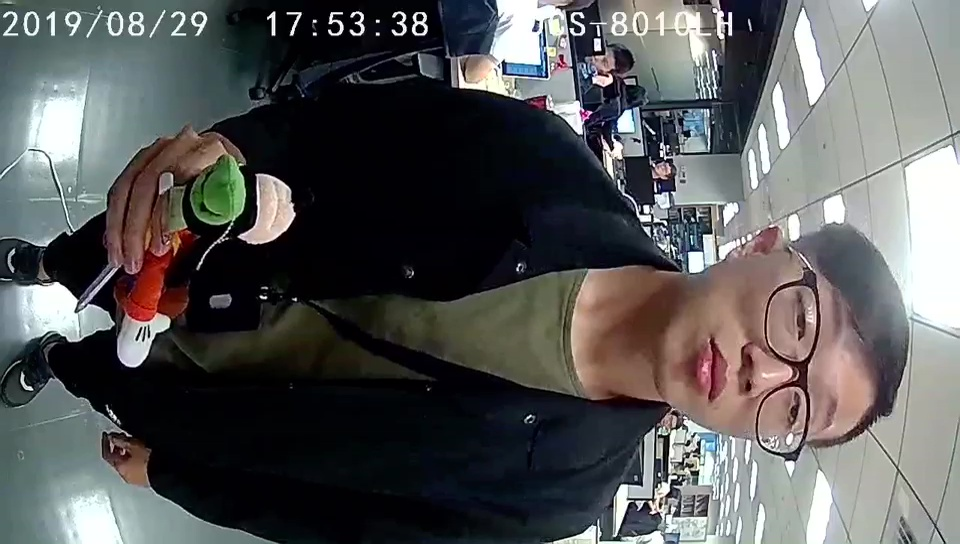goofy: (115, 154, 297, 372)
